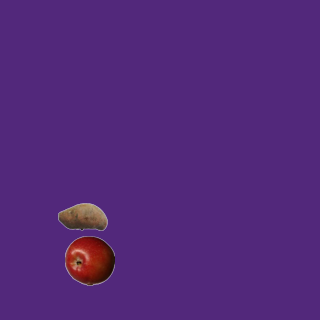Apple Braeburn: (64, 235, 114, 285)
Potato Sweet: (57, 191, 107, 241)
